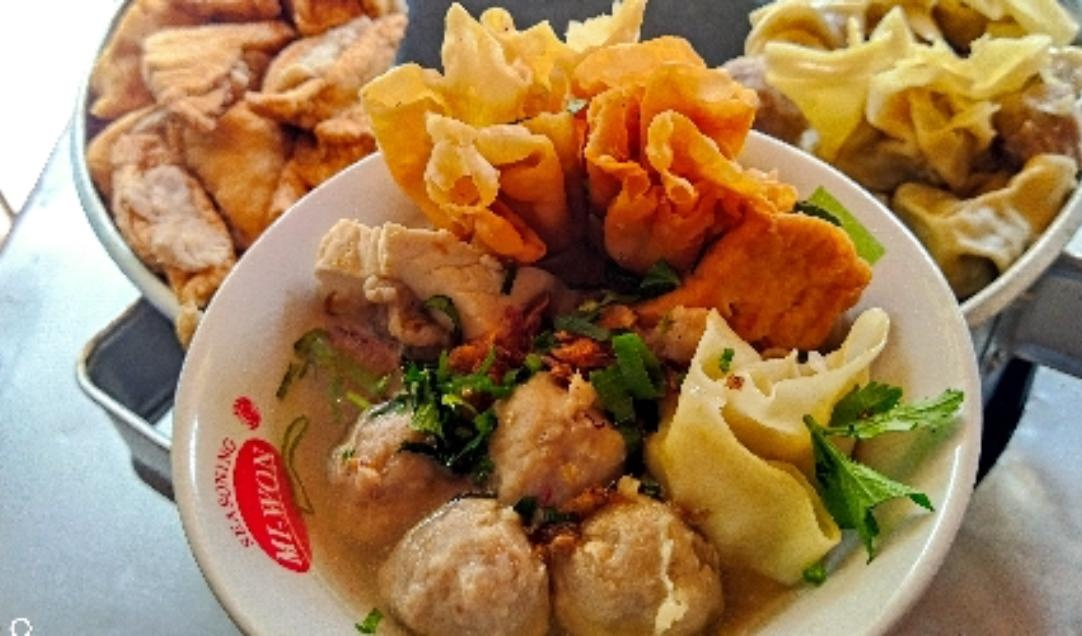bakso_malang: (269, 5, 891, 636)
